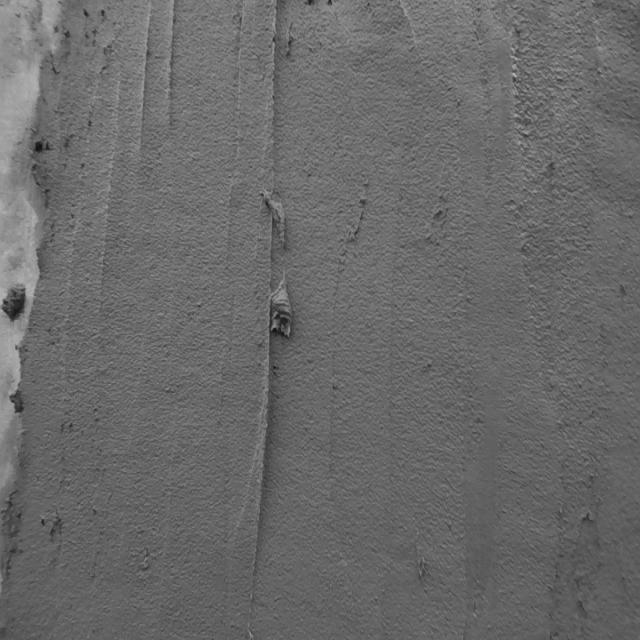trowels marks: (248, 2, 292, 640), (139, 8, 154, 157), (167, 0, 177, 132)
